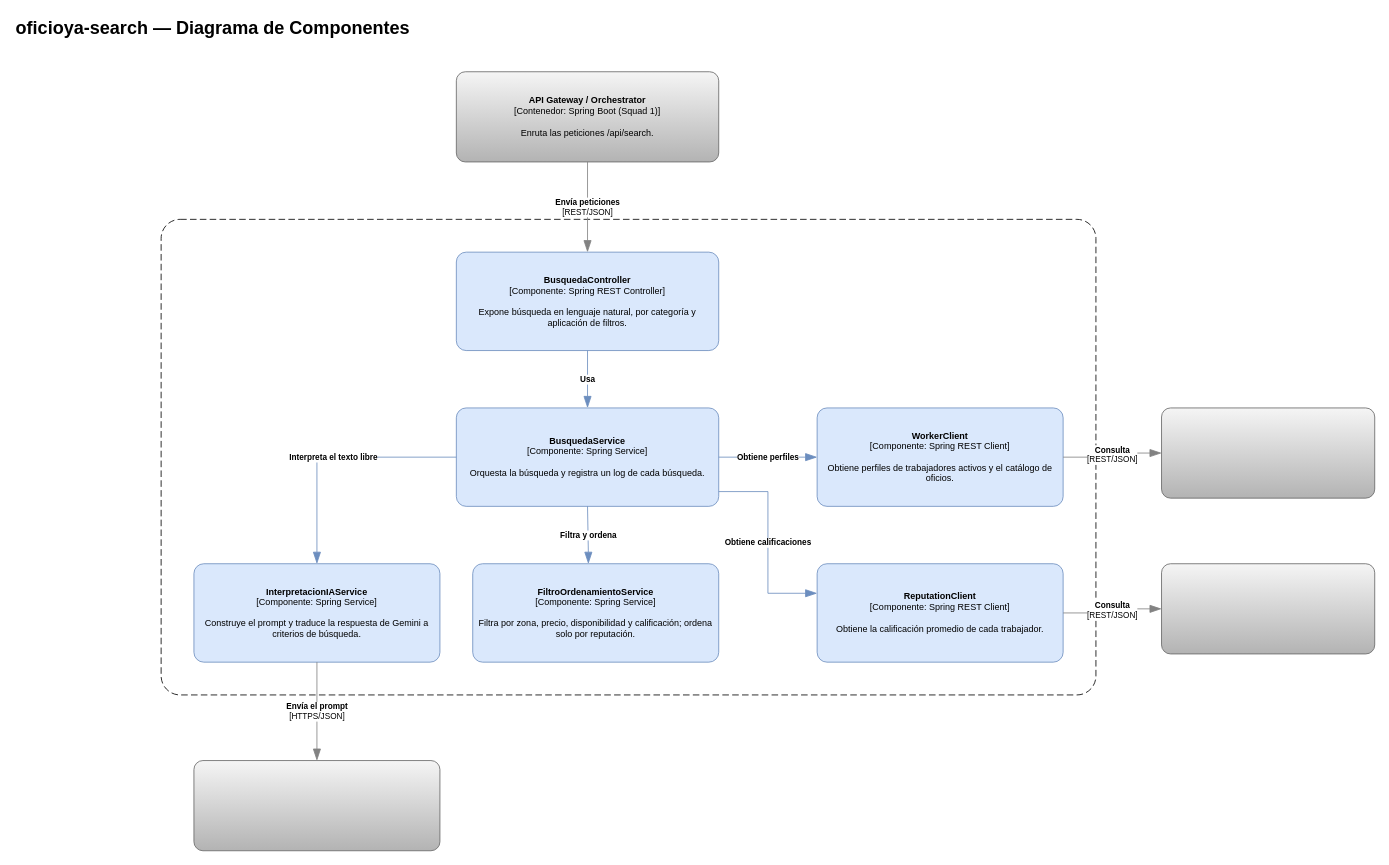
This 1389x865 diagram has some shape labels left out. The shapes that lost their labels are listed below. From the top down, each one's centre as x and y in pixels, then its label:
At [1268,452]: "oficioya-worker [Contenedor: Spring Boot (Squad 3)]".
At [1268,608]: "oficioya-reputation [Contenedor: Spring Boot (Squad 5)]".
At [316,805]: "Google Gemini API [Sistema externo] Modelo de lenguaje.".
